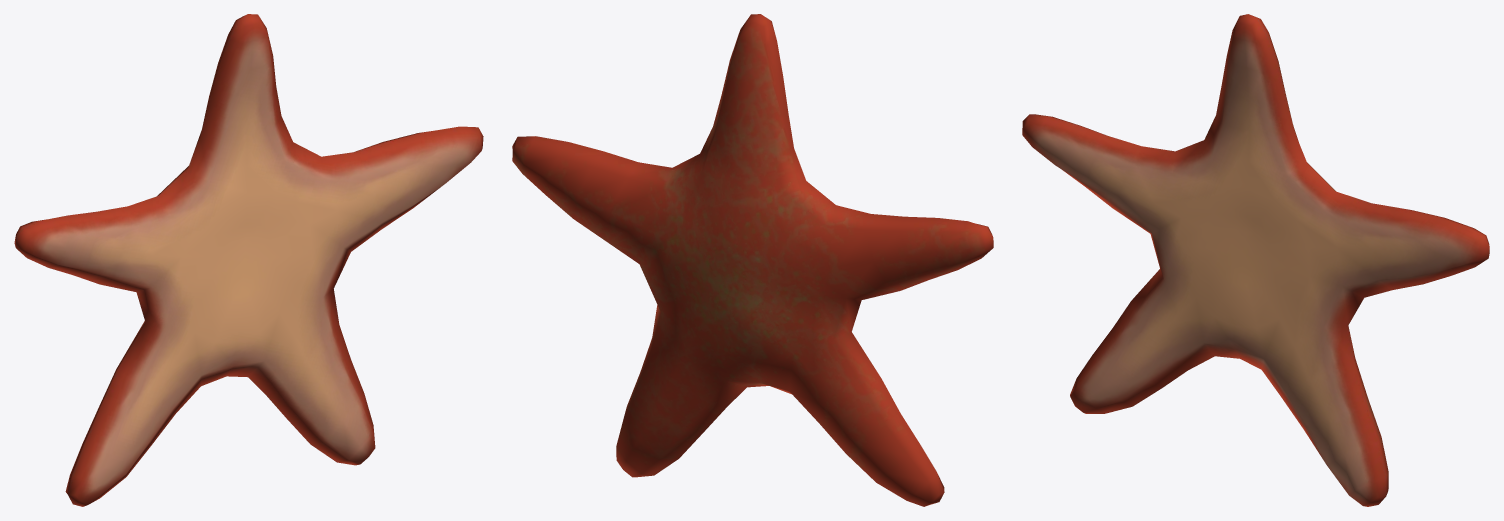
File: low-poly-starfish.glb
The picture shows the model from 3 angles, left to right: view 1: azimuth 30°, elevation 25°; view 2: azimuth 150°, elevation 25°; view 3: azimuth 330°, elevation 25°; orthographic projection. The views are drawn at different scales.
Visible parts, largest first — view 1: LP; view 2: LP; view 3: LP.
Boxes of the visible parts, x1=… form: LP: x1=14, y1=14, x2=483, y2=506; LP: x1=512, y1=14, x2=993, y2=506; LP: x1=1022, y1=14, x2=1489, y2=506.
Bounding box in the file's own units: 0.2078 × 0.2032 × 0.027.
1 material, 1 textured.
